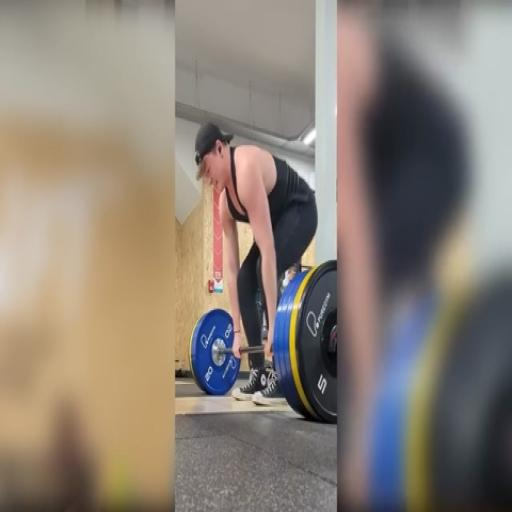exercise: (191, 120, 319, 408)
